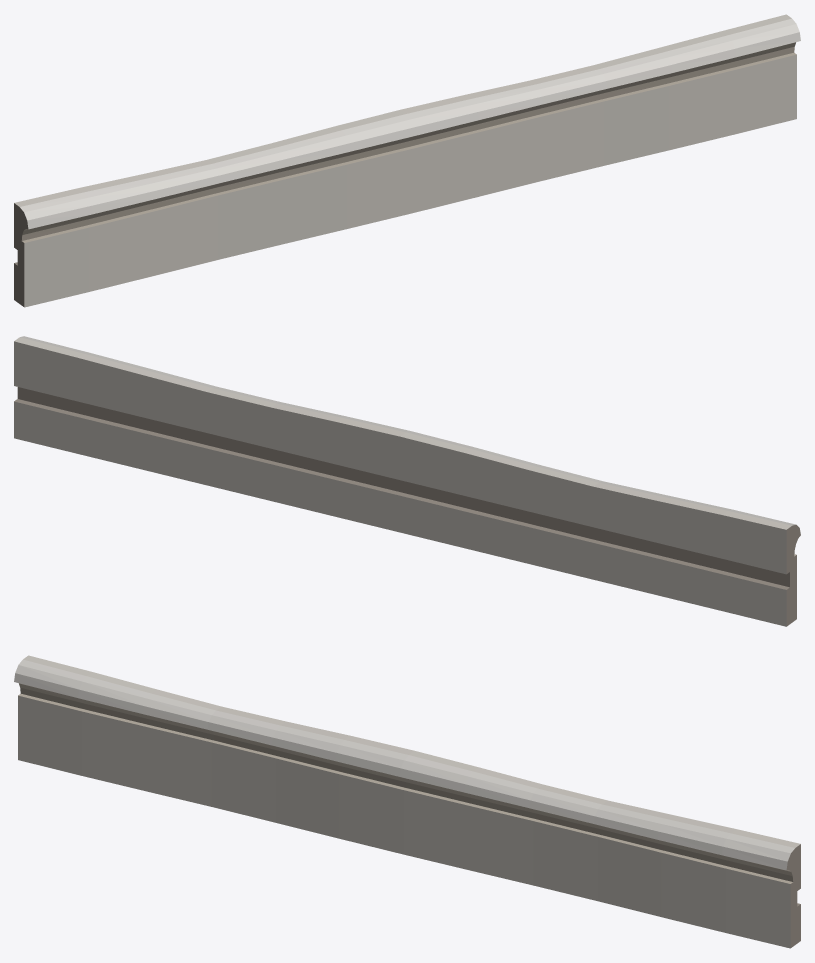
The model's file is skirting-board-run-6f012b.glb.
3 renders of one model, top to bottom at view 1: azimuth 30°, elevation 25°; view 2: azimuth 150°, elevation 25°; view 3: azimuth 330°, elevation 25°, orthographic.
Parts seen in each view (by area): view 1: skirting-board-run; view 2: skirting-board-run; view 3: skirting-board-run.
Boxes of the visible parts, <box> form: skirting-board-run: <box>14,14,800,307</box>; skirting-board-run: <box>14,336,800,626</box>; skirting-board-run: <box>14,655,800,948</box>.
Bounding box in the file's own units: 1 × 0.12 × 0.0338.
